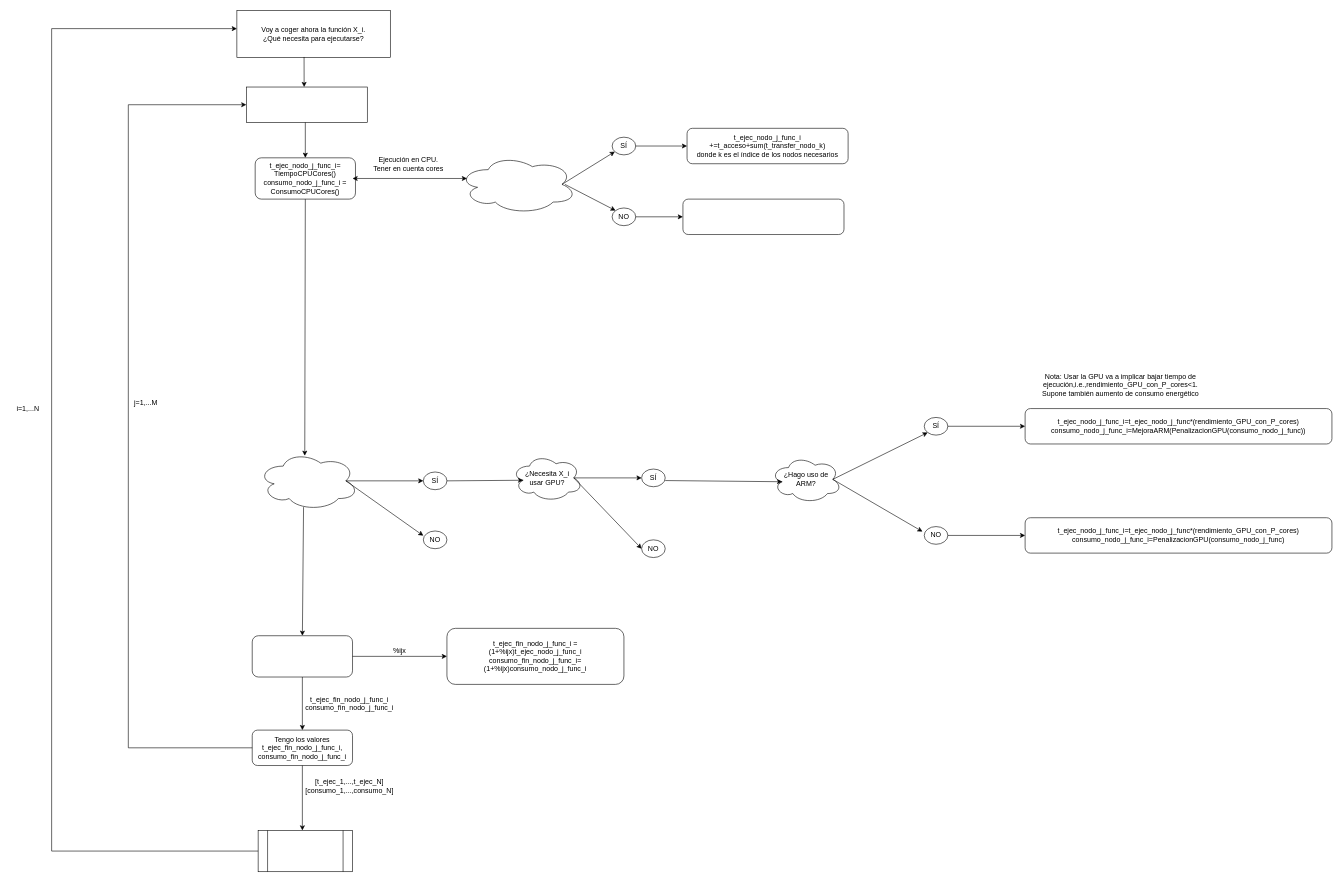
The diagram is 1342 pixels wide and 882 high, and some of its shapes have lost their labels. Each missing label, with the centre of its shape:
Decido en qué nodo lanzar la función X_i tal que minimizo consumo y tiempo: the point at 305,851
Para el nodo j: the point at 306,104
t_ejec_nodo_j_func_i +=t_acceso: the point at 763,217
Voy a ver la carga del nodo X_j en los últimos x días: the point at 302,656
¿El nodo j tiene GPU?: the point at 308,480
¿Necesita datos de otros nodos?: the point at 517,184
